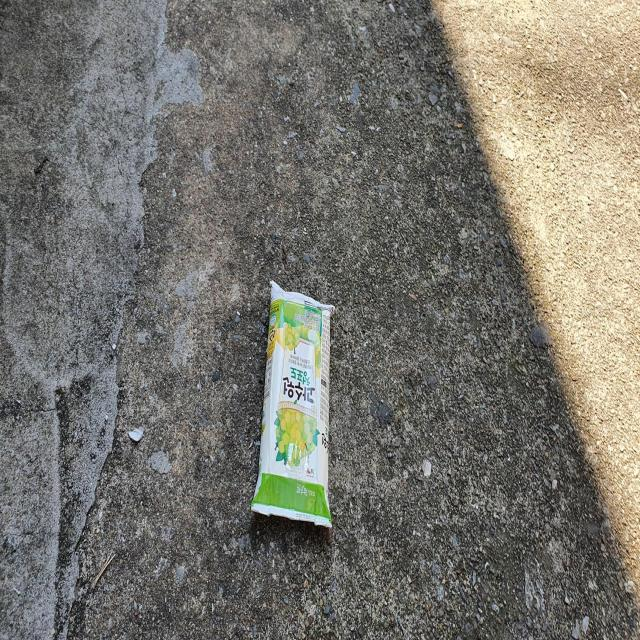paperpack: (251, 281, 334, 530)
